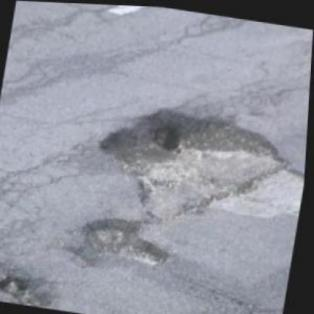Hueco: (87, 94, 297, 234), (75, 208, 176, 267), (0, 256, 68, 306)
